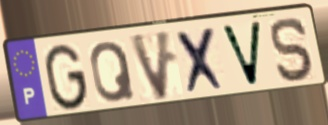G: (43, 42, 90, 113)
Q: (88, 39, 138, 106)
S: (269, 15, 318, 83)
V: (126, 28, 174, 104), (218, 19, 264, 90)
X: (173, 24, 230, 97)
